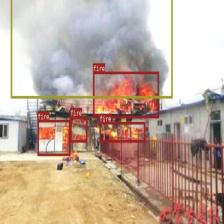fire: (93, 72, 159, 118), (37, 119, 70, 156), (99, 122, 145, 142), (70, 116, 87, 142)
smoke: (10, 0, 171, 97)
